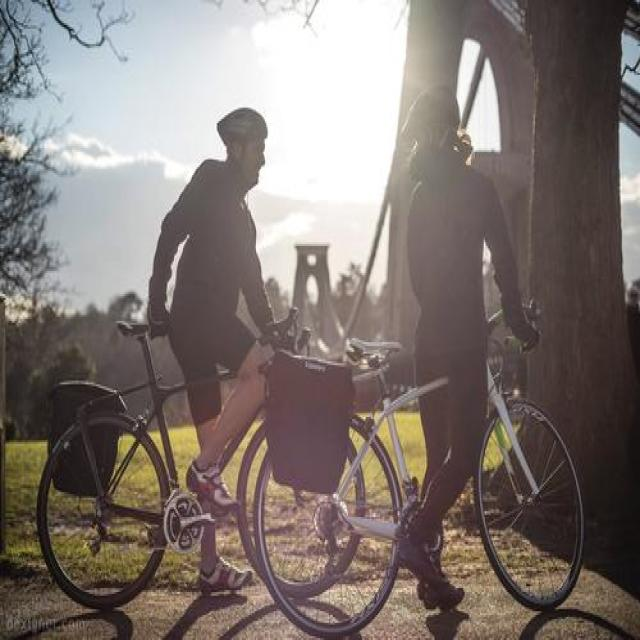bikerider: (262, 69, 589, 627), (34, 84, 324, 594)
